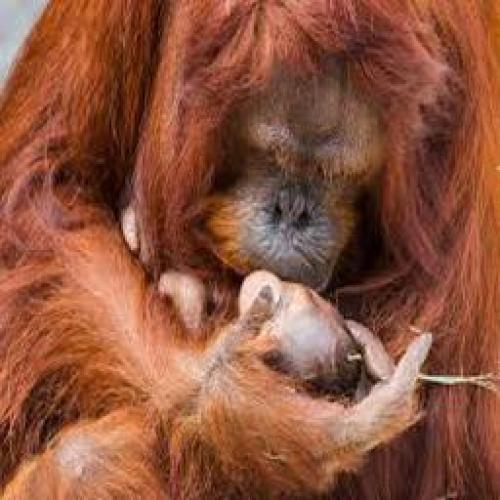orangutan-endangered: (14, 7, 480, 479), (64, 272, 382, 481)
